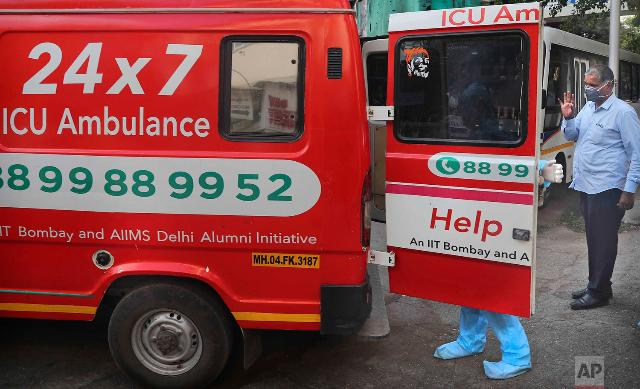ambulance: (0, 0, 541, 388)
